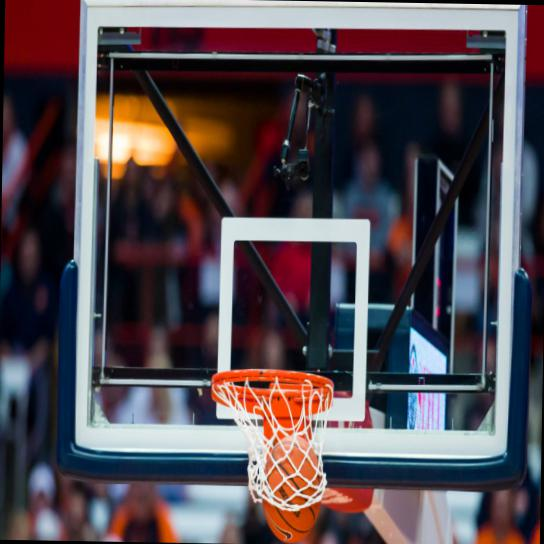basketball-hoop: (206, 364, 336, 516)
